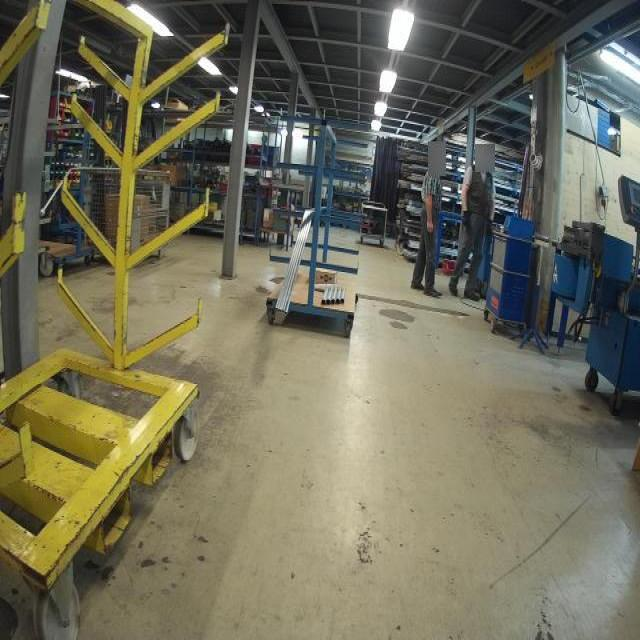stillage: (76, 164, 176, 260)
